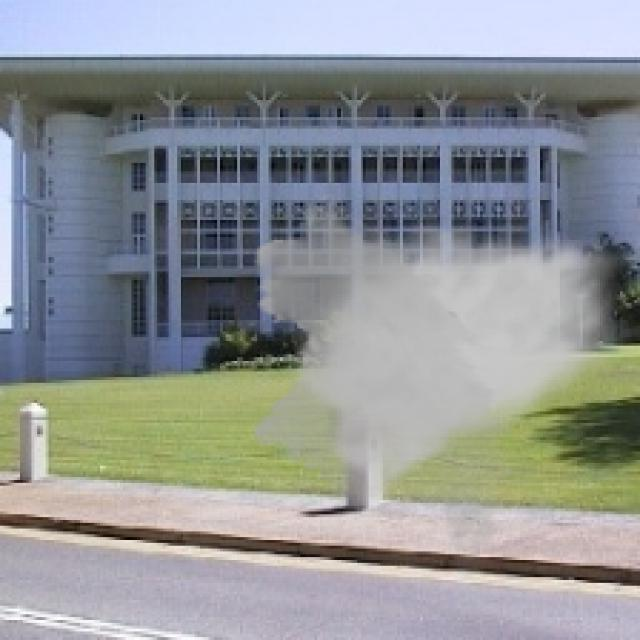smoke: (243, 191, 637, 560)
